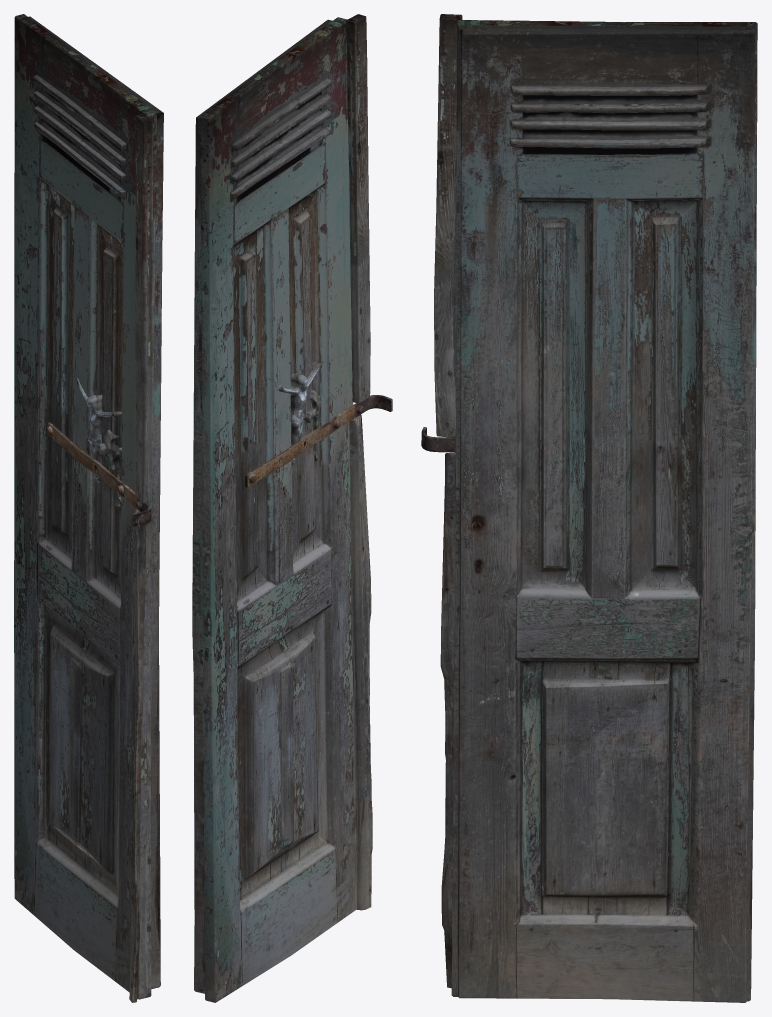
File: sm_Mausoleum_01_05.fbx
The picture shows the model from 3 angles, left to right: view 1: azimuth 30°, elevation 25°; view 2: azimuth 150°, elevation 25°; view 3: azimuth 270°, elevation 25°; orthographic projection. The views are drawn at different scales.
Parts seen in each view (by area): view 1: sm_Mausoleum_01_05_LOD0; view 2: sm_Mausoleum_01_05_LOD0; view 3: sm_Mausoleum_01_05_LOD0.
Boxes of the visible parts, x1,y1,x2,y2 form: sm_Mausoleum_01_05_LOD0: [14, 14, 163, 1002]; sm_Mausoleum_01_05_LOD0: [192, 14, 392, 1002]; sm_Mausoleum_01_05_LOD0: [421, 14, 757, 1002].
Size of the model in its own units: 14.4 by 70.47 by 226.
